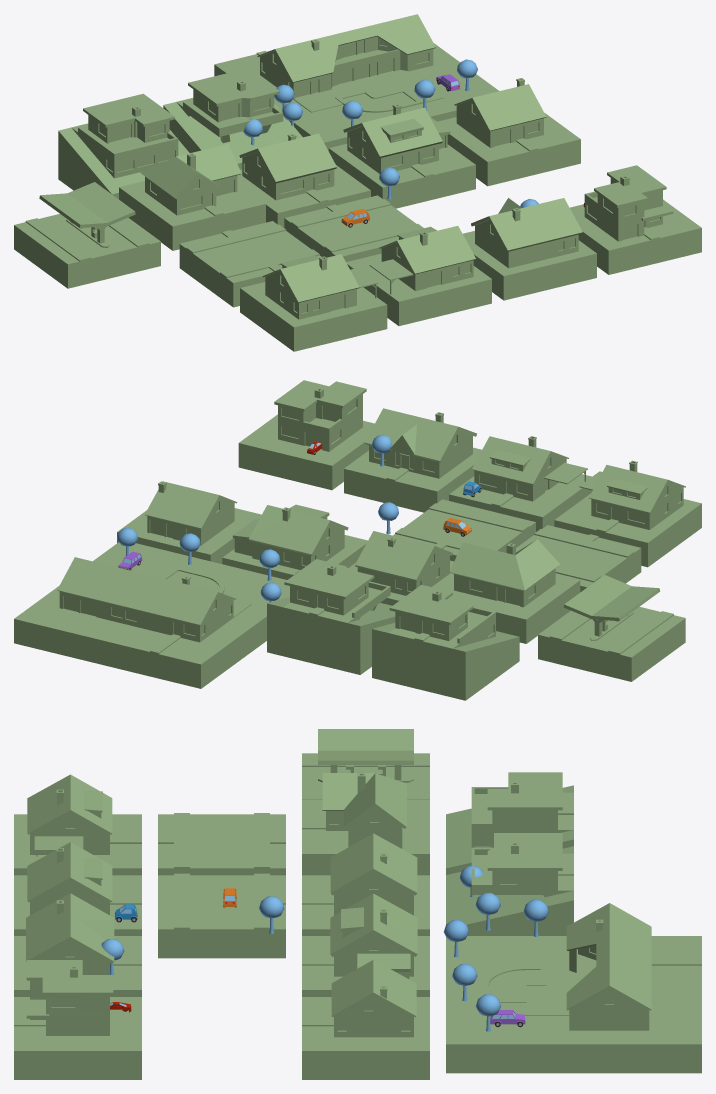
Rendered from sample.fbx.
The picture shows the model from 3 angles, top to bottom: view 1: azimuth 30°, elevation 25°; view 2: azimuth 150°, elevation 25°; view 3: azimuth 270°, elevation 25°; orthographic projection. The views are drawn at different scales.
Visible parts, largest first — view 1: house-luxurious, gas-station, house-small-carport-right, house-country, house-mid, house-small-garage, house-small.2, house-small-carport-left, house-modern, house-hill-normal, house-hill-small, house-small (+2 smaller); view 2: house-luxurious, house-hill-normal, house-hill-small, gas-station, house-modern, house-mid, house-small-carport-right, house-country, house-small-carport-left, house-small-garage, house-small.2, house-small (+2 smaller); view 3: house-luxurious, house-modern, house-small.2, house-hill-small, road-straight-house-1-low, house-country, house-small-carport-right, house-small-garage, road-straight-house-2-low, house-small, house-hill-normal, house-mid (+2 smaller).
Boxes of the visible parts, x1,y1,x2,y2 form: house-luxurious: [214, 14, 499, 150]; gas-station: [14, 182, 160, 288]; house-small-carport-right: [240, 254, 387, 351]; house-country: [119, 144, 265, 250]; house-mid: [463, 198, 596, 300]; house-small-garage: [328, 103, 475, 208]; house-small.2: [437, 78, 580, 186]; house-small-carport-left: [346, 226, 491, 325]; house-modern: [570, 165, 701, 274]; house-hill-normal: [58, 93, 189, 199]; house-hill-small: [163, 68, 302, 169]; house-small: [237, 133, 370, 227]; house-luxurious: [14, 542, 289, 688]; house-hill-normal: [372, 584, 519, 700]; house-hill-small: [267, 559, 395, 674]; gas-station: [538, 575, 685, 681]; house-modern: [238, 380, 374, 490]; house-mid: [344, 408, 481, 512]; house-small-carport-right: [554, 460, 701, 567]; house-country: [443, 539, 580, 643]; house-small-carport-left: [449, 436, 592, 531]; house-small-garage: [222, 504, 367, 579]; house-small.2: [117, 481, 261, 563]; house-small: [348, 531, 453, 605]; house-luxurious: [446, 903, 701, 1073]; house-modern: [14, 960, 141, 1079]; house-small.2: [302, 960, 429, 1079]; house-hill-small: [446, 833, 573, 935]; road-straight-house-1-low: [158, 873, 285, 958]; house-country: [302, 773, 429, 875]; house-small-carport-right: [14, 774, 141, 875]; house-small-garage: [302, 893, 429, 996]; road-straight-house-2-low: [158, 813, 285, 875]; house-small: [302, 833, 429, 935]; house-hill-normal: [446, 772, 573, 874]; house-mid: [14, 893, 141, 996].
Size of the model in its own units: 4400 by 649 by 4300.
